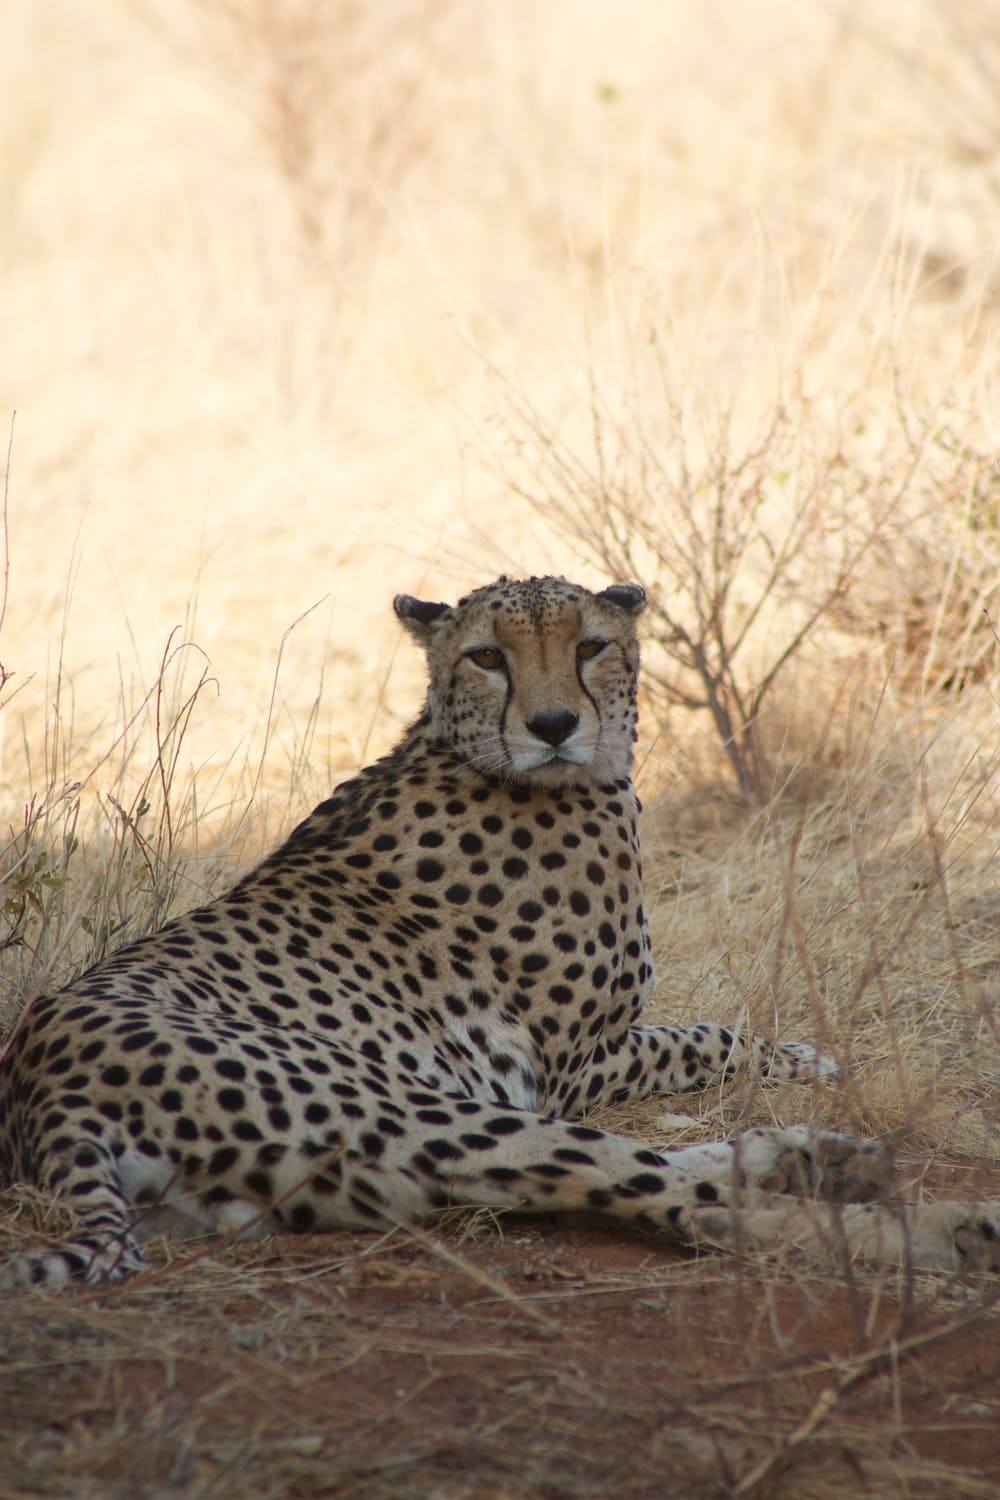cheetah: (362, 549, 673, 829)
